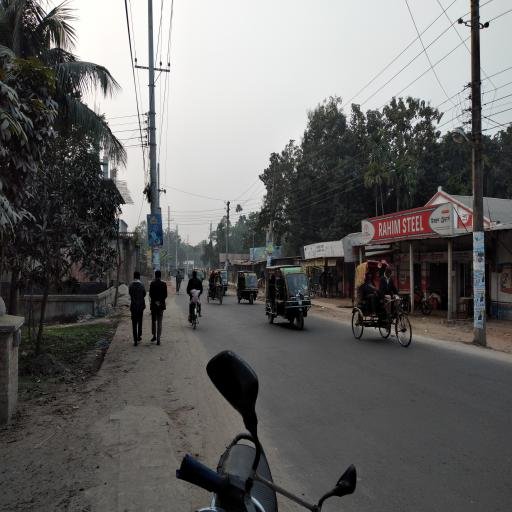auto rickshaw: (265, 265, 313, 331), (237, 270, 260, 306), (218, 269, 231, 297), (194, 269, 203, 285), (179, 268, 186, 283), (189, 268, 194, 281), (174, 269, 180, 279)
bicycle: (187, 294, 203, 331), (177, 281, 183, 296), (204, 275, 208, 284)
motorbike: (178, 349, 366, 511), (399, 291, 433, 317), (303, 283, 317, 302)
rickshaw: (351, 260, 413, 348), (208, 270, 225, 306)
